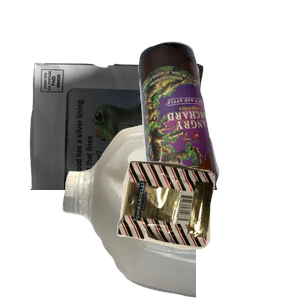glass: (136, 39, 300, 219)
paper: (27, 60, 223, 240)
plastic: (60, 120, 300, 300)
trash: (115, 158, 300, 300)
